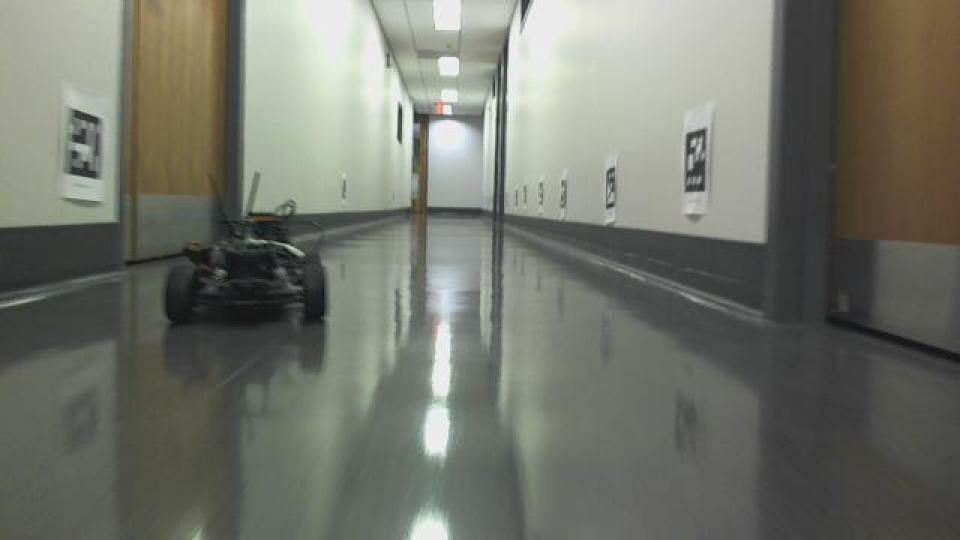car: (159, 168, 330, 328)
